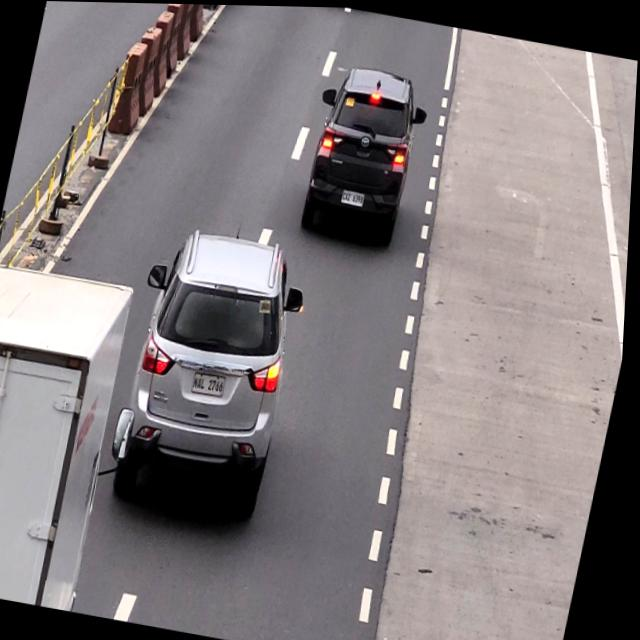Car: (109, 223, 307, 537), (301, 62, 426, 250)
License-Plate: (191, 367, 233, 401), (341, 185, 370, 207)
Truck: (0, 260, 142, 612)
